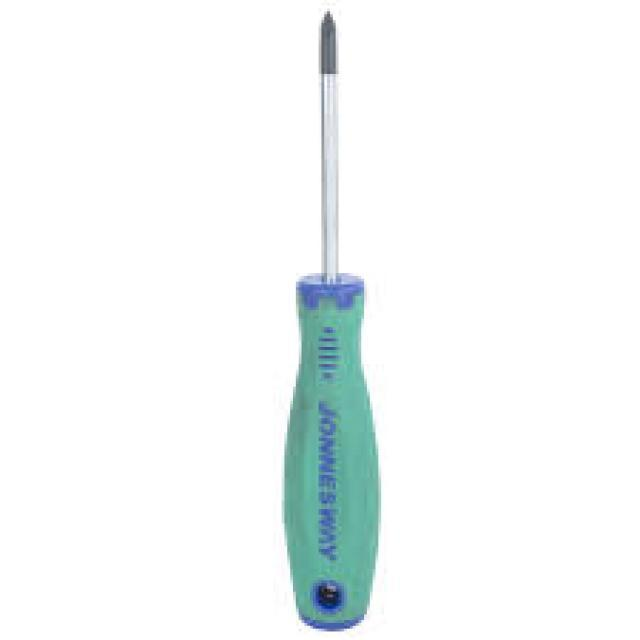screwdriver: (283, 4, 383, 633)
